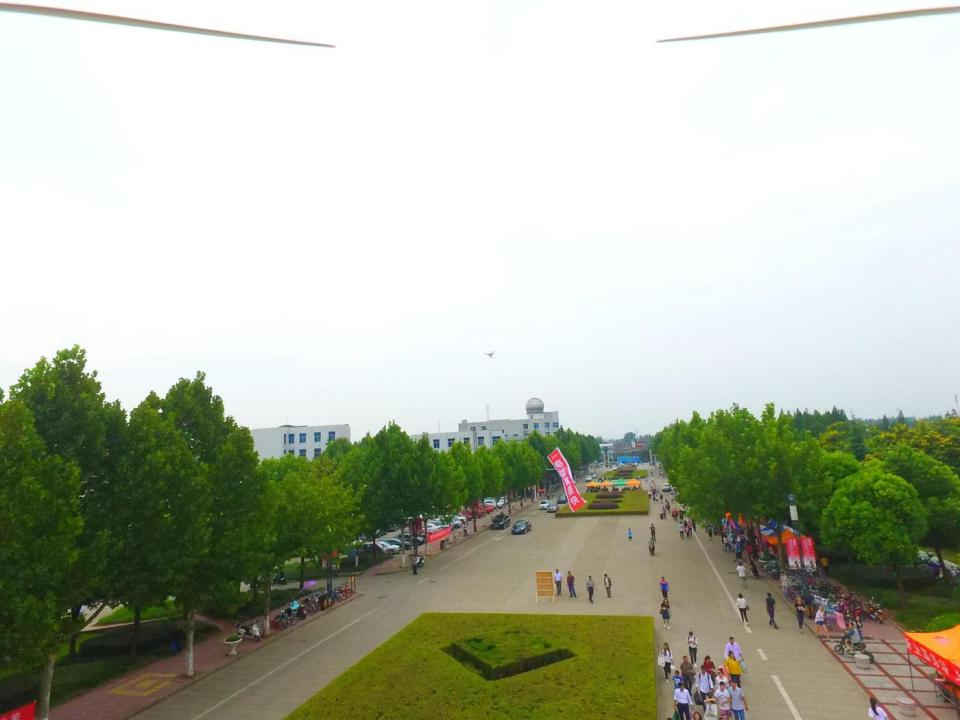car: (379, 538, 413, 551), (488, 512, 510, 532), (390, 533, 425, 545), (366, 542, 399, 554), (426, 520, 454, 533), (510, 519, 532, 535), (430, 518, 462, 529), (418, 524, 444, 535), (442, 513, 466, 524), (480, 501, 503, 508), (546, 503, 559, 514), (538, 500, 552, 508), (557, 494, 568, 504), (661, 484, 671, 492), (584, 476, 592, 483), (590, 474, 596, 478)
van: (354, 542, 390, 558)
